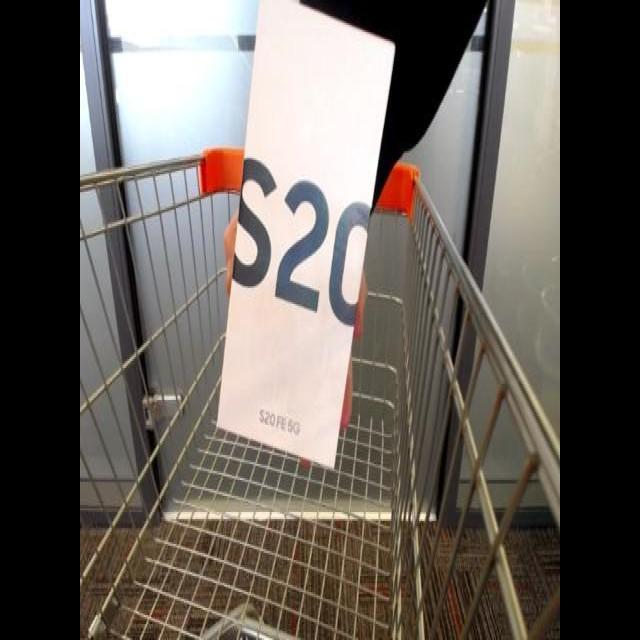Samsung S20: (211, 0, 410, 471)
